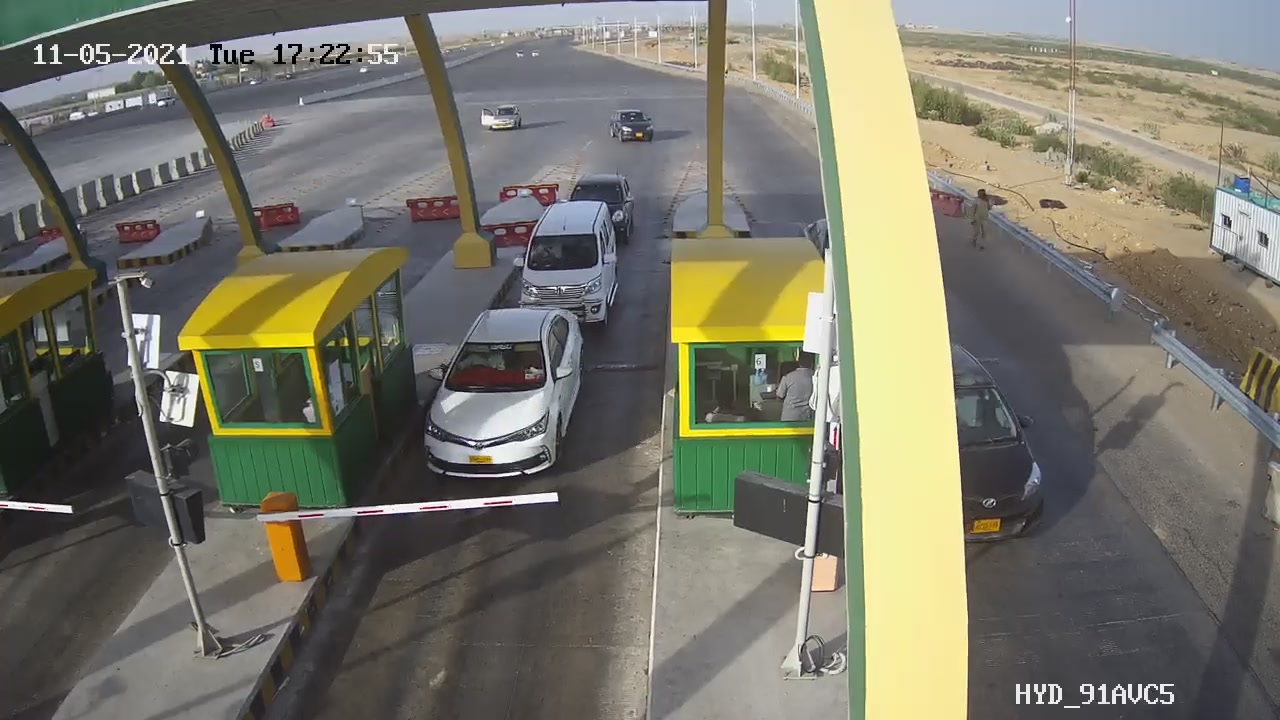F1: (409, 292, 611, 488)
